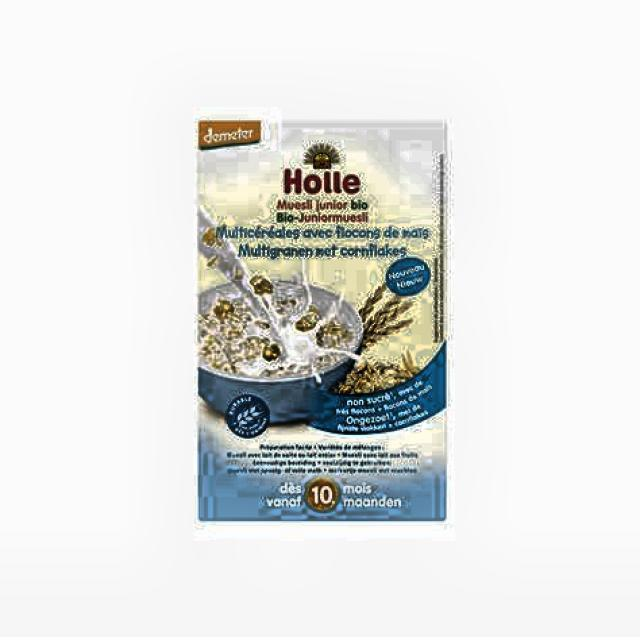cardboard: (194, 118, 447, 522)
